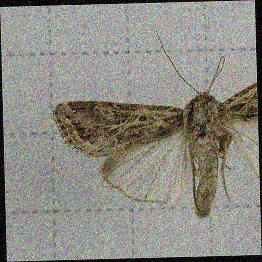Spodoptera litura: (52, 30, 259, 222)
